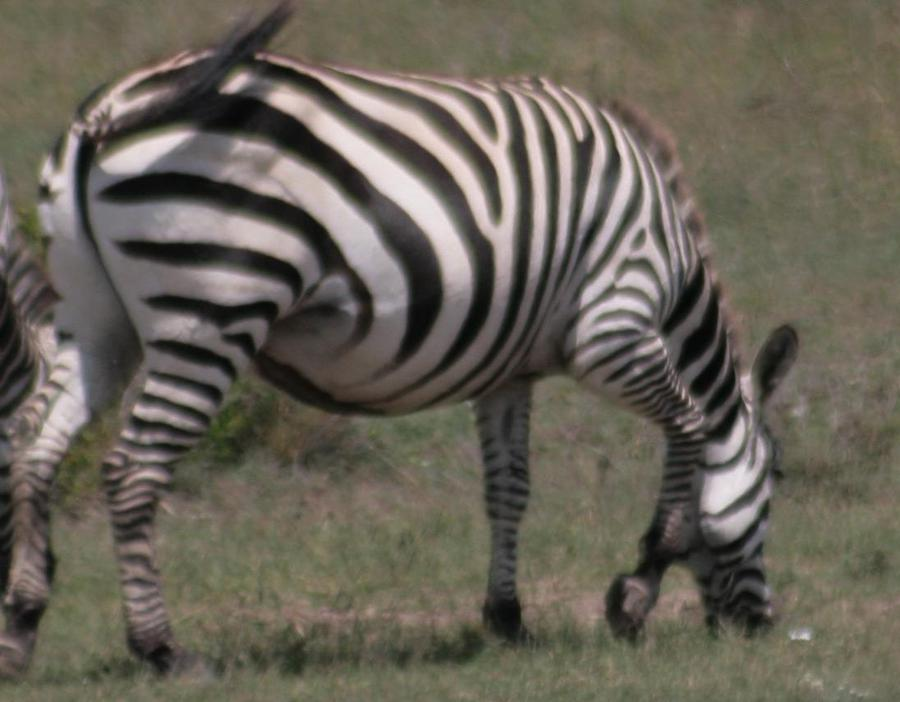zebra_plains: (101, 28, 714, 424)
